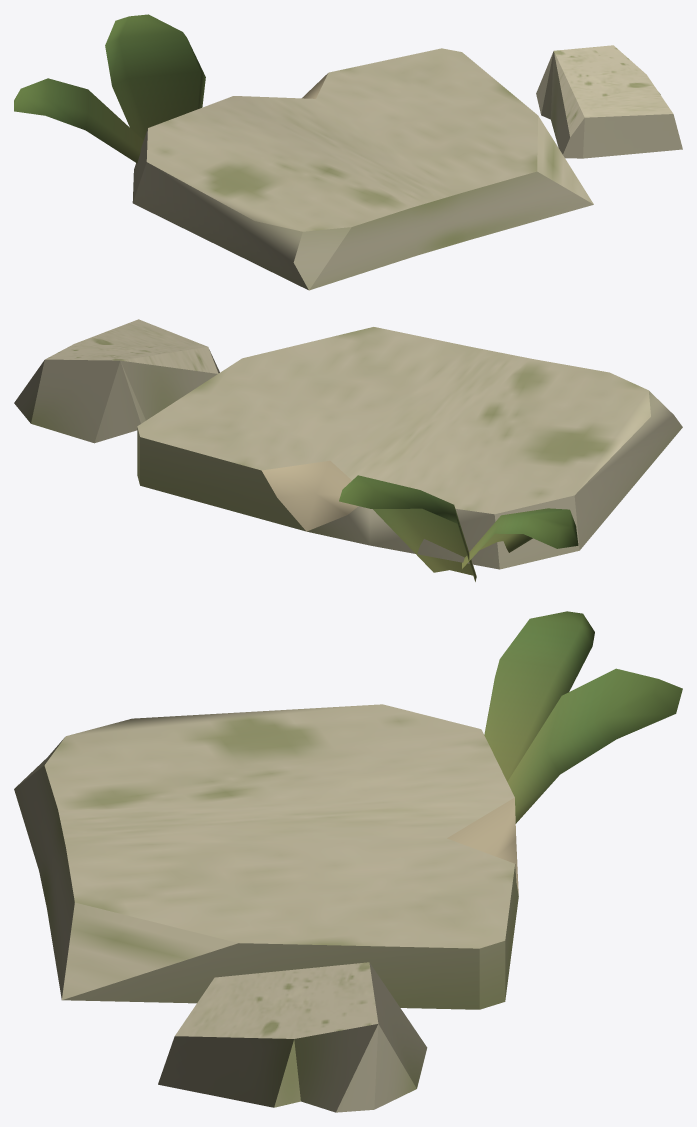
Rendered from DE_StoneGrass_04.fbx.
The picture shows the model from 3 angles, top to bottom: view 1: azimuth 30°, elevation 25°; view 2: azimuth 150°, elevation 25°; view 3: azimuth 270°, elevation 25°; orthographic projection. The views are drawn at different scales.
Parts seen in each view (by area): view 1: DE_StoneGrass_DM_02; view 2: DE_StoneGrass_DM_02; view 3: DE_StoneGrass_DM_02.
Boxes of the visible parts, box(x1,y1,x2,y2) form: DE_StoneGrass_DM_02: box(14, 14, 682, 290); DE_StoneGrass_DM_02: box(14, 319, 682, 581); DE_StoneGrass_DM_02: box(14, 611, 682, 1112).
Size of the model in its own units: 55.77 by 11.03 by 39.82.
